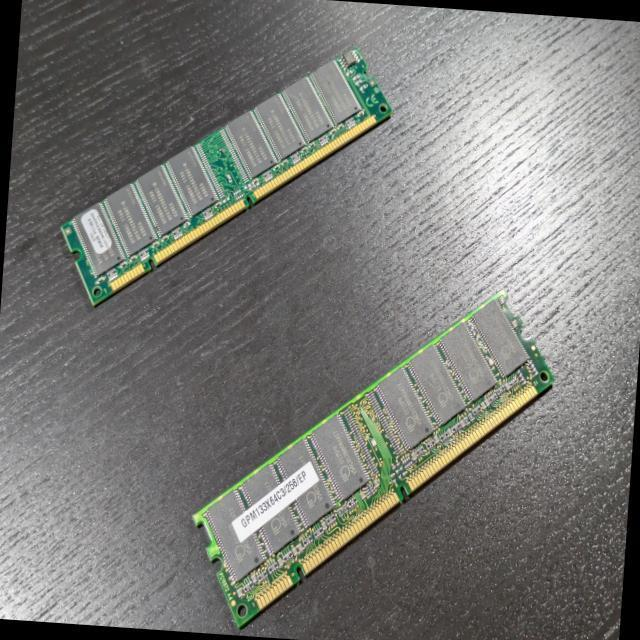RAM: (184, 265, 560, 640), (54, 26, 396, 324)
